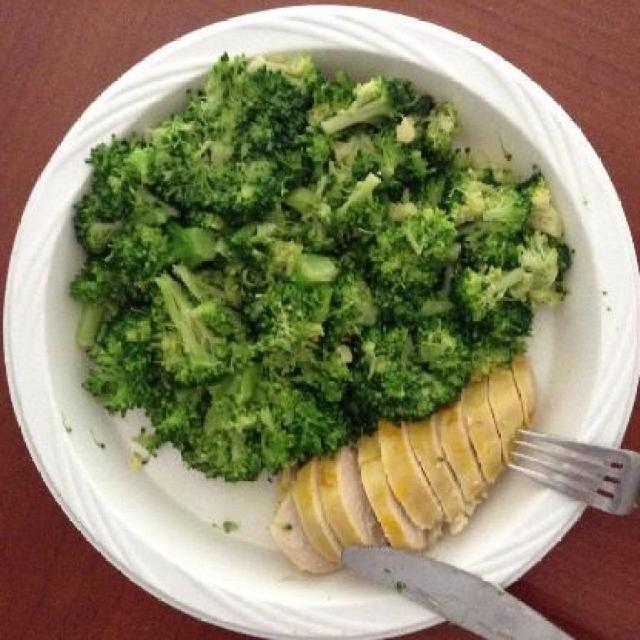Broccoli: (73, 46, 572, 483)
